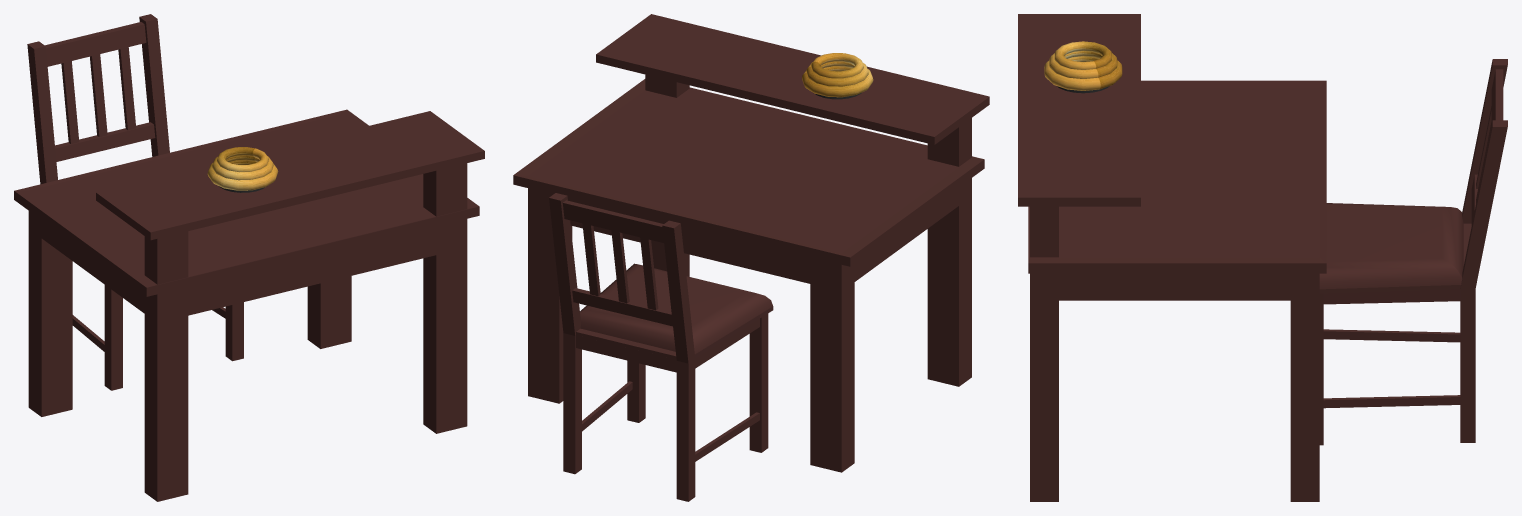
Rendered from Escritorio.obj.
3 renders of one model, left to right at view 1: azimuth 30°, elevation 25°; view 2: azimuth 150°, elevation 25°; view 3: azimuth 270°, elevation 25°, orthographic. The views are drawn at different scales.
Parts seen in each view (by area): view 1: Escritorio:grouppasted__pasted__Escritoriopasted__group7, Escritorio:grouppasted__Silla_Cuarto_Bety, Escritorio:pasted__group14grouppasted__pasted__pTorus1, Escritorio:pasted__pasted__pTorus3pasted__group14group, Escritorio:pasted__group14grouppasted__pasted__pTorus2; view 2: Escritorio:grouppasted__pasted__Escritoriopasted__group7, Escritorio:grouppasted__Silla_Cuarto_Bety, Escritorio:pasted__group14grouppasted__pasted__pTorus1, Escritorio:pasted__pasted__pTorus3pasted__group14group, Escritorio:pasted__group14grouppasted__pasted__pTorus2; view 3: Escritorio:grouppasted__pasted__Escritoriopasted__group7, Escritorio:grouppasted__Silla_Cuarto_Bety, Escritorio:pasted__group14grouppasted__pasted__pTorus1, Escritorio:pasted__pasted__pTorus3pasted__group14group, Escritorio:pasted__group14grouppasted__pasted__pTorus2.
Boxes of the visible parts, box(x1,y1,x2,y2) form: Escritorio:grouppasted__pasted__Escritoriopasted__group7: box(14, 109, 484, 501); Escritorio:grouppasted__Silla_Cuarto_Bety: box(27, 14, 243, 390); Escritorio:pasted__group14grouppasted__pasted__pTorus1: box(207, 160, 278, 190); Escritorio:pasted__pasted__pTorus3pasted__group14group: box(217, 147, 268, 172); Escritorio:pasted__group14grouppasted__pasted__pTorus2: box(212, 155, 273, 180); Escritorio:grouppasted__pasted__Escritoriopasted__group7: box(513, 14, 989, 472); Escritorio:grouppasted__Silla_Cuarto_Bety: box(549, 193, 773, 501); Escritorio:pasted__group14grouppasted__pasted__pTorus1: box(802, 66, 873, 97); Escritorio:pasted__pasted__pTorus3pasted__group14group: box(811, 53, 863, 78); Escritorio:pasted__group14grouppasted__pasted__pTorus2: box(806, 61, 868, 86); Escritorio:grouppasted__pasted__Escritoriopasted__group7: box(1018, 14, 1326, 501); Escritorio:grouppasted__Silla_Cuarto_Bety: box(1319, 59, 1507, 445); Escritorio:pasted__group14grouppasted__pasted__pTorus1: box(1044, 56, 1122, 90); Escritorio:pasted__pasted__pTorus3pasted__group14group: box(1054, 41, 1111, 69); Escritorio:pasted__group14grouppasted__pasted__pTorus2: box(1049, 51, 1117, 78).
Size of the model in its own units: 1.4 by 1.2 by 1.57.
3 materials, 3 textured.
